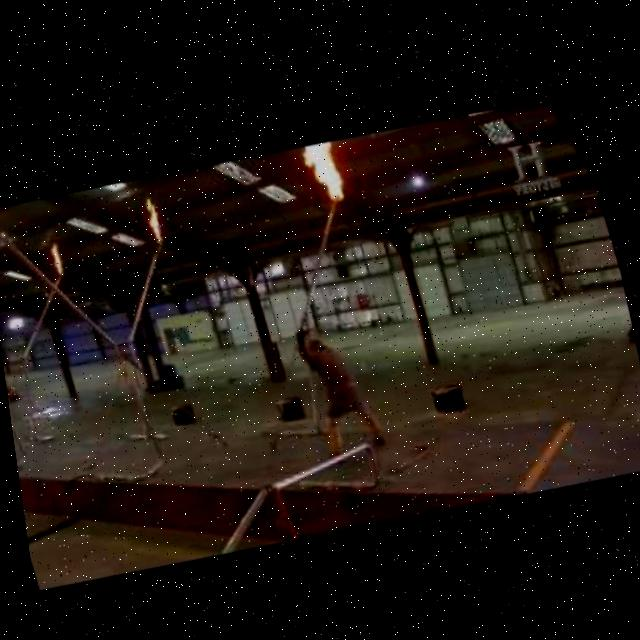fire: (303, 138, 365, 206), (139, 195, 185, 247), (46, 243, 86, 281)
